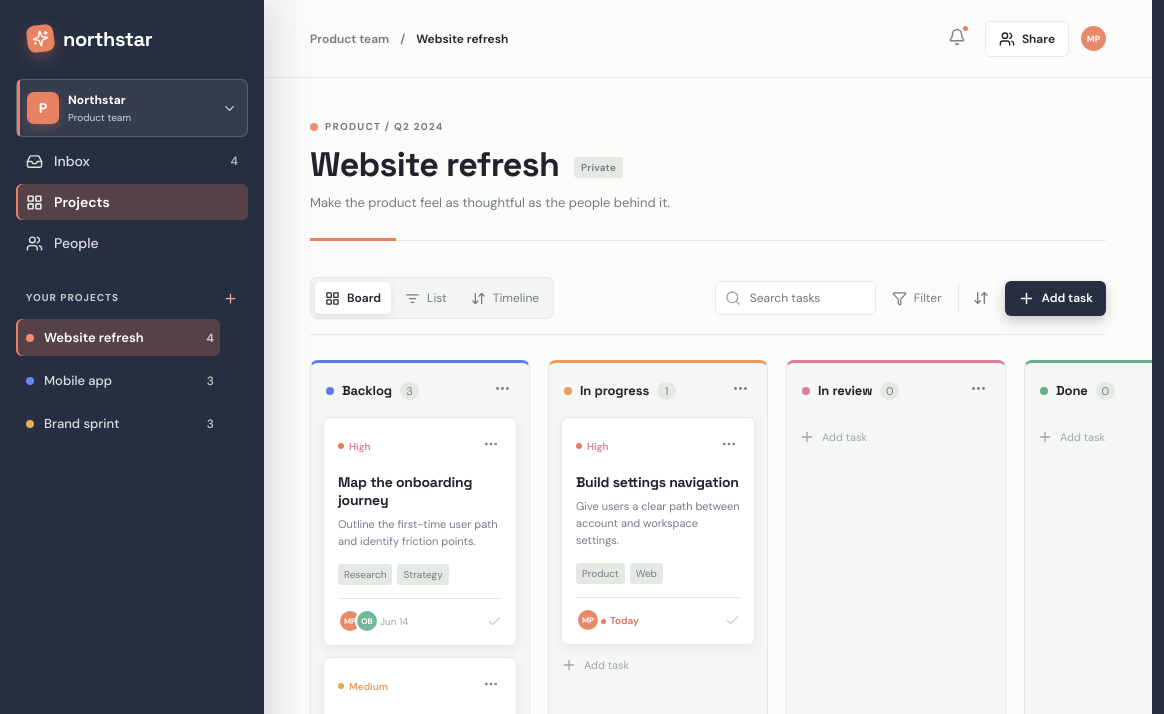
Test: Home page - initial render › opens a separate Kanban board when a different project is selected
Click the button "Mobile app 3". click: (118, 380)
box: [16,362,220,399]
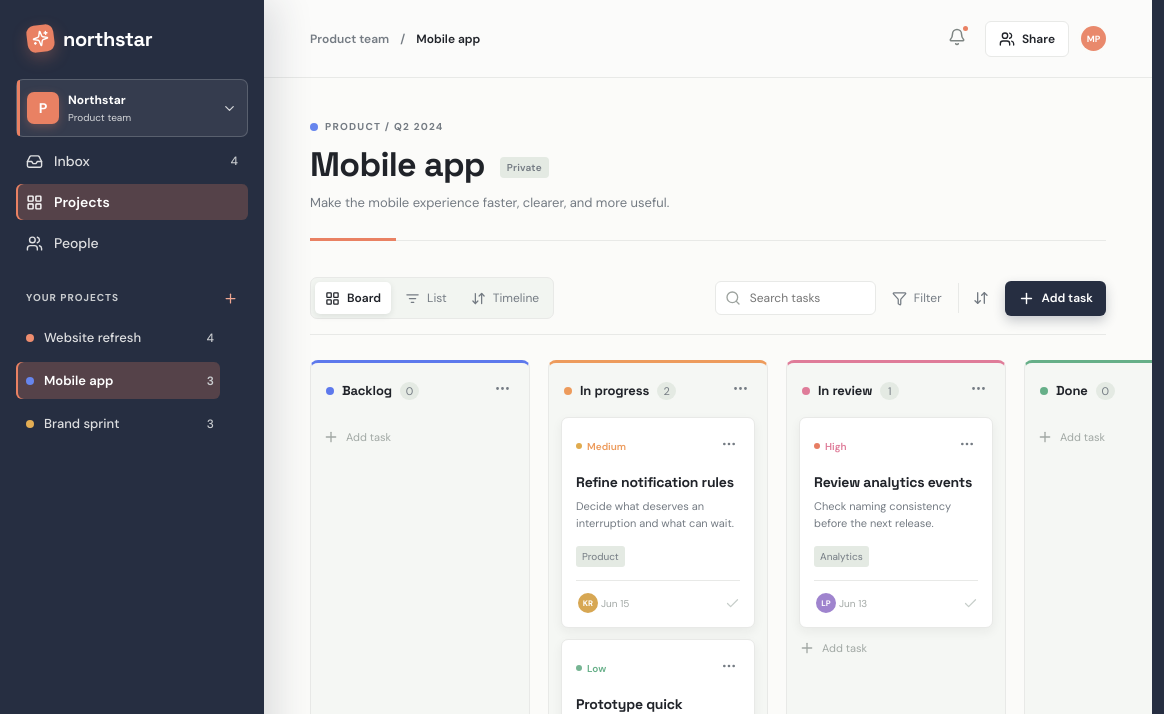
Now the heading "Refine notification rules" is shown, box [576,473,740,491]
Now the heading "Map the onboarding journey" is gone
